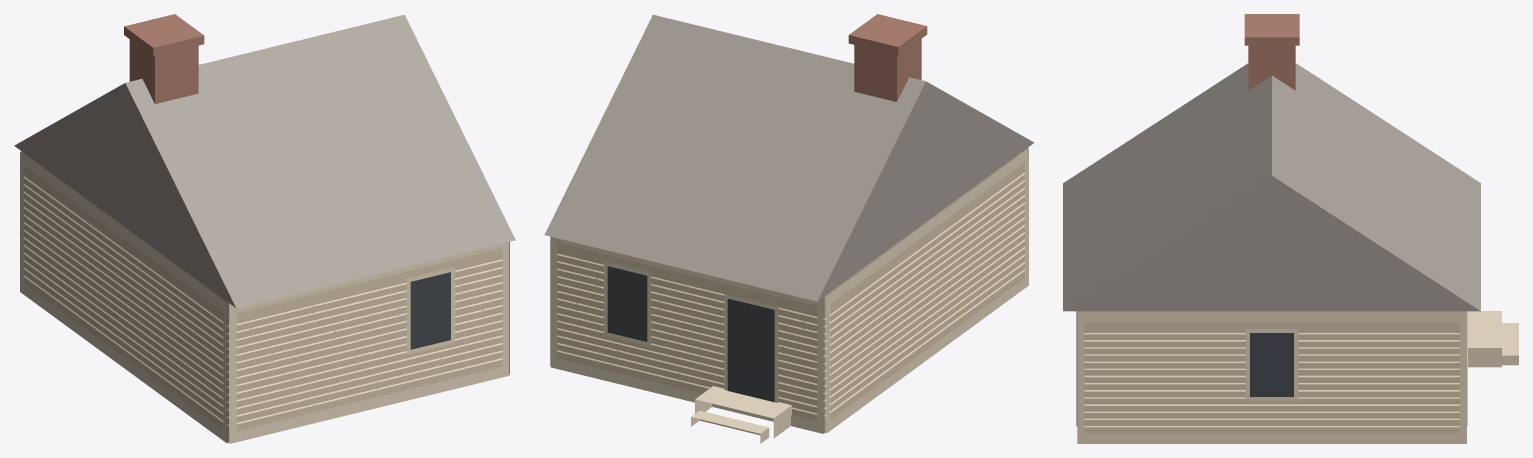
Rendered from recon_1835_blk_south_water_clark_d3_03__inferred_1835.glb.
3 renders of one model, left to right at view 1: azimuth 30°, elevation 25°; view 2: azimuth 150°, elevation 25°; view 3: azimuth 270°, elevation 25°, orthographic. The views are drawn at different scales.
Parts seen in each view (by area): view 1: recon_1835_blk_south_water_clark_d3_03__inferred_1835; view 2: recon_1835_blk_south_water_clark_d3_03__inferred_1835; view 3: recon_1835_blk_south_water_clark_d3_03__inferred_1835.
Boxes of the visible parts, x1=… form: recon_1835_blk_south_water_clark_d3_03__inferred_1835: x1=14, y1=14, x2=515, y2=443; recon_1835_blk_south_water_clark_d3_03__inferred_1835: x1=544, y1=14, x2=1034, y2=443; recon_1835_blk_south_water_clark_d3_03__inferred_1835: x1=1063, y1=14, x2=1518, y2=443.
Size of the model in its own units: 5.46 by 6.02 by 8.09.
